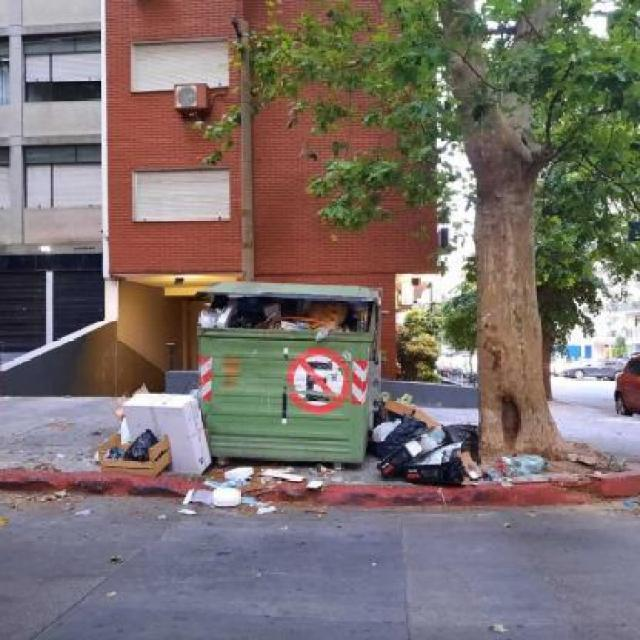garbage: (42, 356, 231, 509), (375, 388, 582, 504), (191, 289, 400, 343), (219, 458, 366, 530)
